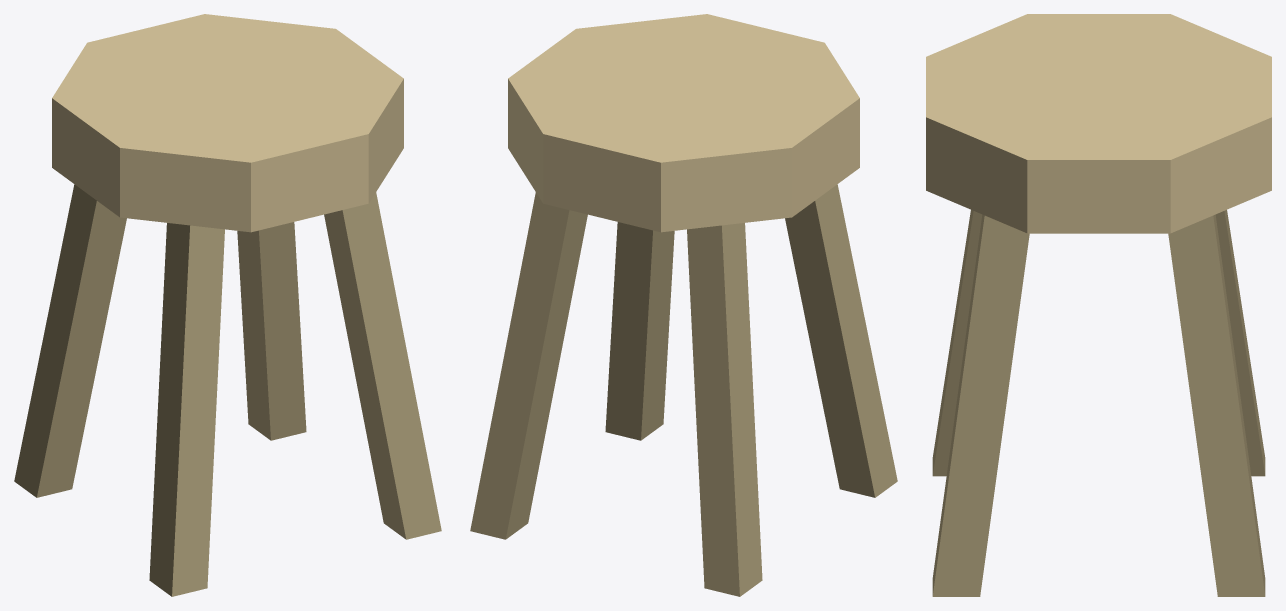
Rendered from stool_d1.glb.
3 renders of one model, left to right at view 1: azimuth 30°, elevation 25°; view 2: azimuth 150°, elevation 25°; view 3: azimuth 270°, elevation 25°, orthographic. The views are drawn at different scales.
Parts seen in each view (by area): view 1: stool_d1_seat_light_wood, stool_d1_leg_back_left_dark_wood, stool_d1_leg_back_right_dark_wood, stool_d1_leg_front_left_dark_wood, stool_d1_leg_front_right_dark_wood; view 2: stool_d1_seat_light_wood, stool_d1_leg_front_left_dark_wood, stool_d1_leg_front_right_dark_wood, stool_d1_leg_back_left_dark_wood, stool_d1_leg_back_right_dark_wood; view 3: stool_d1_seat_light_wood, stool_d1_leg_back_right_dark_wood, stool_d1_leg_front_right_dark_wood, stool_d1_leg_back_left_dark_wood, stool_d1_leg_front_left_dark_wood.
Boxes of the visible parts, bbox=[...] form: stool_d1_seat_light_wood: bbox=[52, 14, 403, 232]; stool_d1_leg_back_left_dark_wood: bbox=[149, 223, 224, 596]; stool_d1_leg_back_right_dark_wood: bbox=[324, 192, 441, 539]; stool_d1_leg_front_left_dark_wood: bbox=[14, 184, 126, 497]; stool_d1_leg_front_right_dark_wood: bbox=[237, 222, 306, 440]; stool_d1_seat_light_wood: bbox=[508, 14, 859, 232]; stool_d1_leg_front_left_dark_wood: bbox=[687, 223, 762, 596]; stool_d1_leg_front_right_dark_wood: bbox=[470, 192, 587, 539]; stool_d1_leg_back_left_dark_wood: bbox=[785, 184, 897, 497]; stool_d1_leg_back_right_dark_wood: bbox=[605, 222, 674, 440]; stool_d1_seat_light_wood: bbox=[926, 14, 1271, 233]; stool_d1_leg_back_right_dark_wood: bbox=[932, 214, 1029, 596]; stool_d1_leg_front_right_dark_wood: bbox=[1168, 214, 1265, 596]; stool_d1_leg_back_left_dark_wood: bbox=[932, 210, 982, 476]; stool_d1_leg_front_left_dark_wood: bbox=[1215, 210, 1265, 476].
Size of the model in its own units: 0.32 by 0.45 by 0.32.
